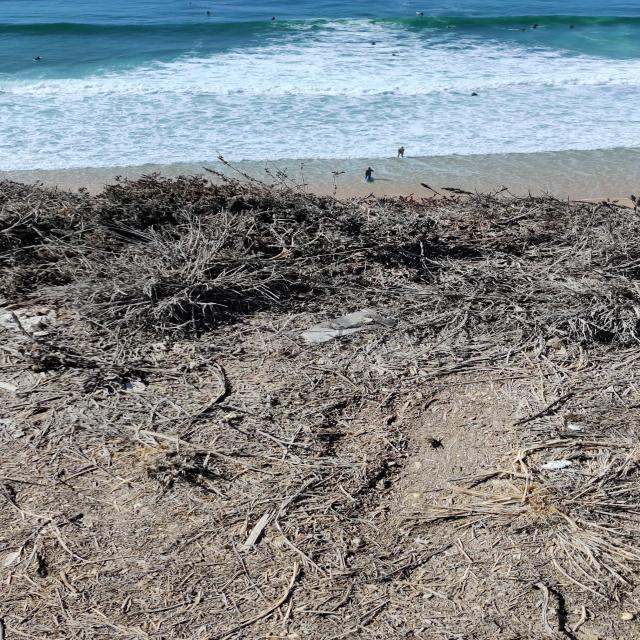litter: (274, 309, 386, 350)
